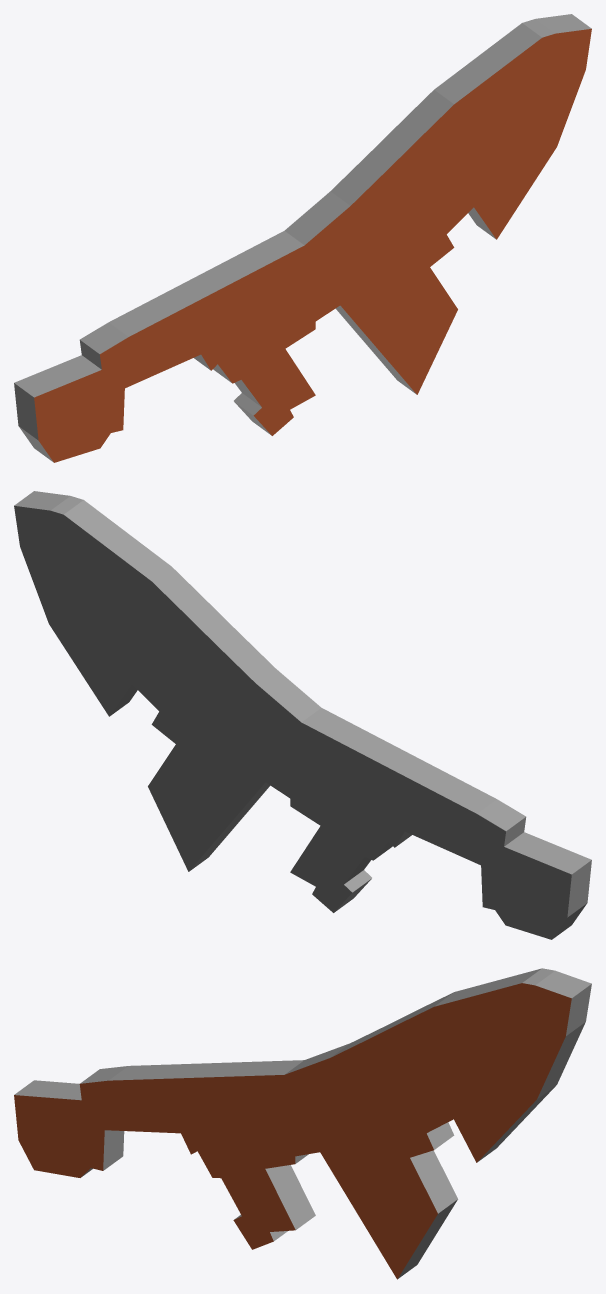
The model's file is construction_3727_assumed_A_Casa_h6m.obj.
The picture shows the model from 3 angles, top to bottom: view 1: azimuth 30°, elevation 25°; view 2: azimuth 150°, elevation 25°; view 3: azimuth 330°, elevation 25°; orthographic projection.
Visible parts, largest first — view 1: construction_3727_assumed_A_Casa; view 2: construction_3727_assumed_A_Casa; view 3: construction_3727_assumed_A_Casa.
Part boxes in pixels (box(x1,y1,x2,y2)): construction_3727_assumed_A_Casa: box(14, 14, 591, 462); construction_3727_assumed_A_Casa: box(14, 491, 591, 939); construction_3727_assumed_A_Casa: box(14, 968, 591, 1279).
Size of the model in its own units: 95.9 by 54.8 by 6.
